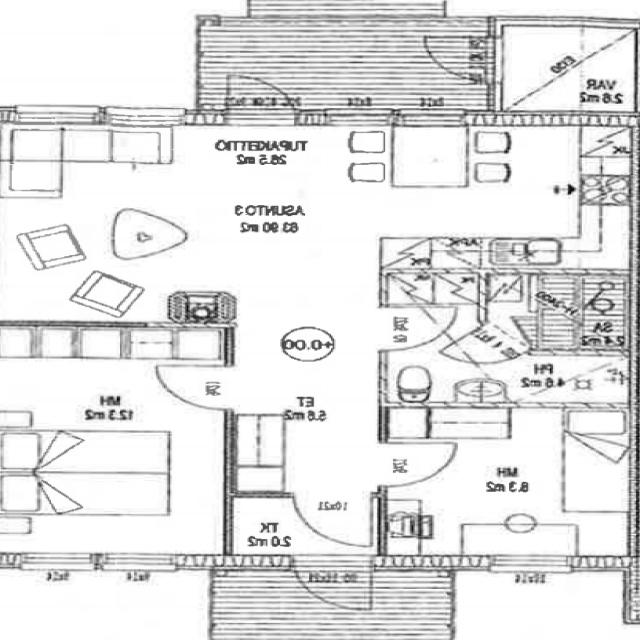door: (442, 320, 534, 378), (293, 555, 372, 619), (294, 492, 372, 546), (227, 70, 295, 128), (417, 37, 501, 83), (153, 366, 232, 410), (380, 307, 458, 350), (381, 443, 456, 486)
